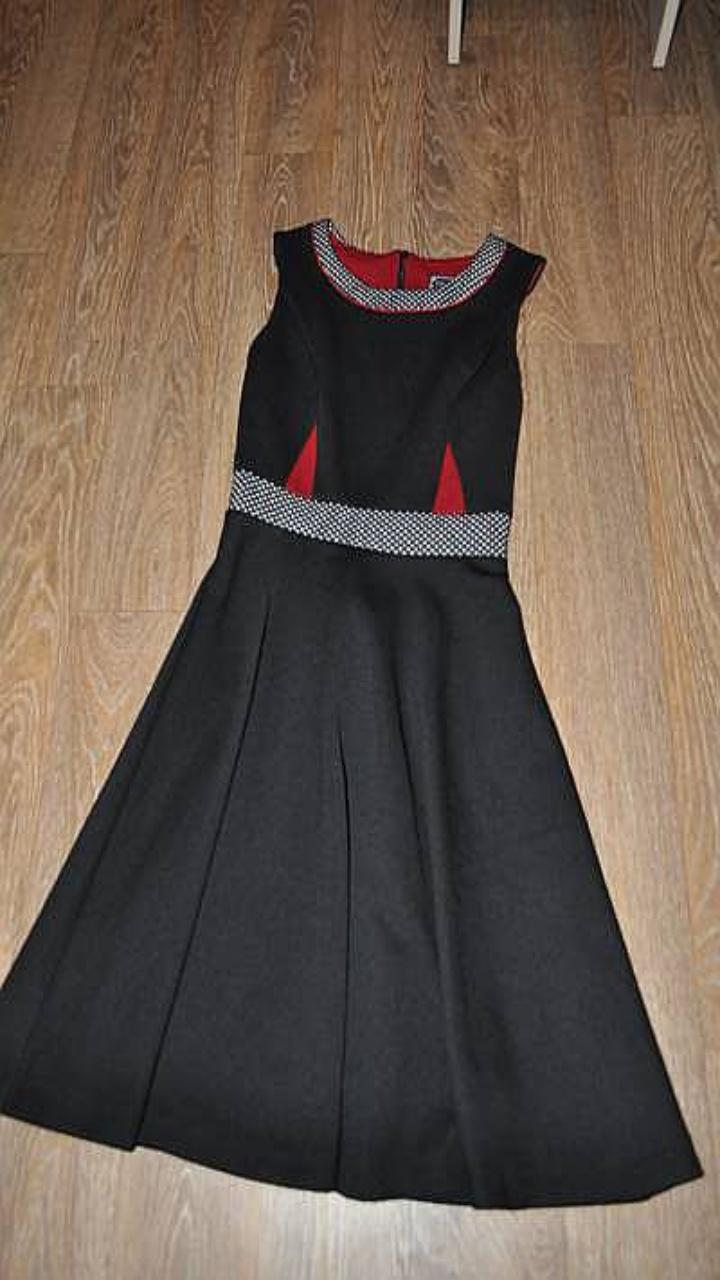Dresses: (0, 218, 702, 1206)
